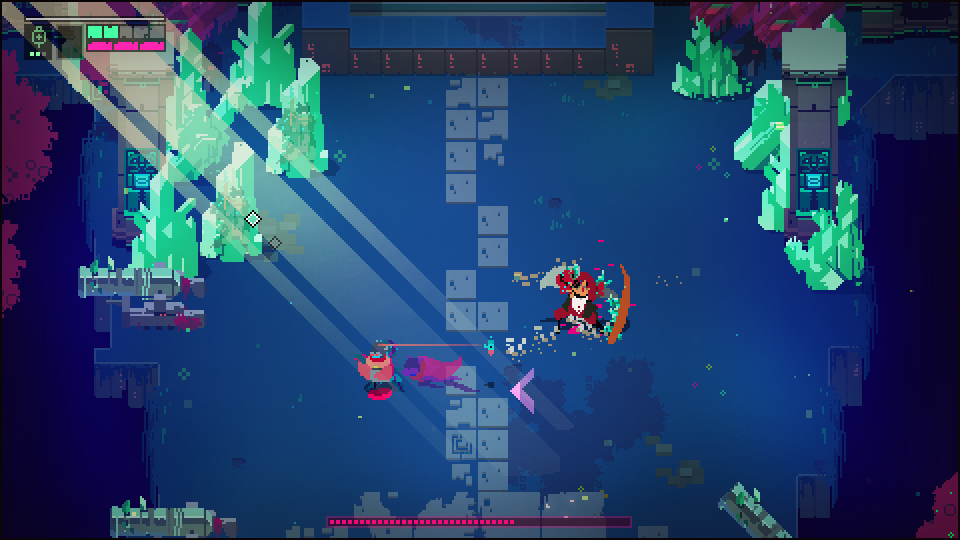hanged_man: (540, 264, 625, 344)
player: (351, 341, 400, 394)
